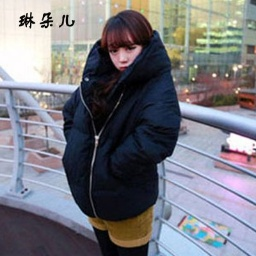face: (98, 8, 155, 69)
